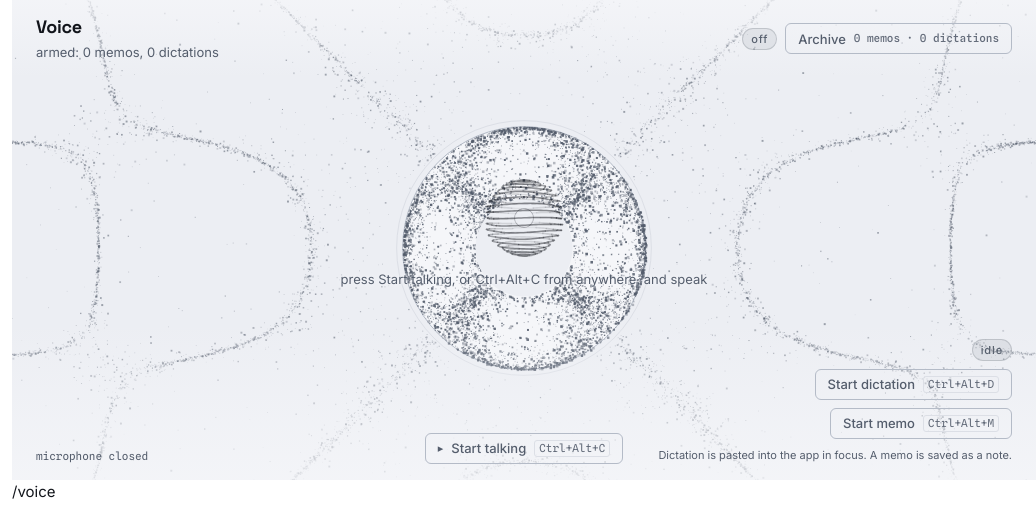
Test: Voice — capture outcomes › names a 204 capture as nothing heard rather than reporting success
What coordinates should you click on to do the following:
click the button "Start dictation Ctrl+Alt+D"
I would click on:
 (913, 384)
Its box is [814,369,1012,400].
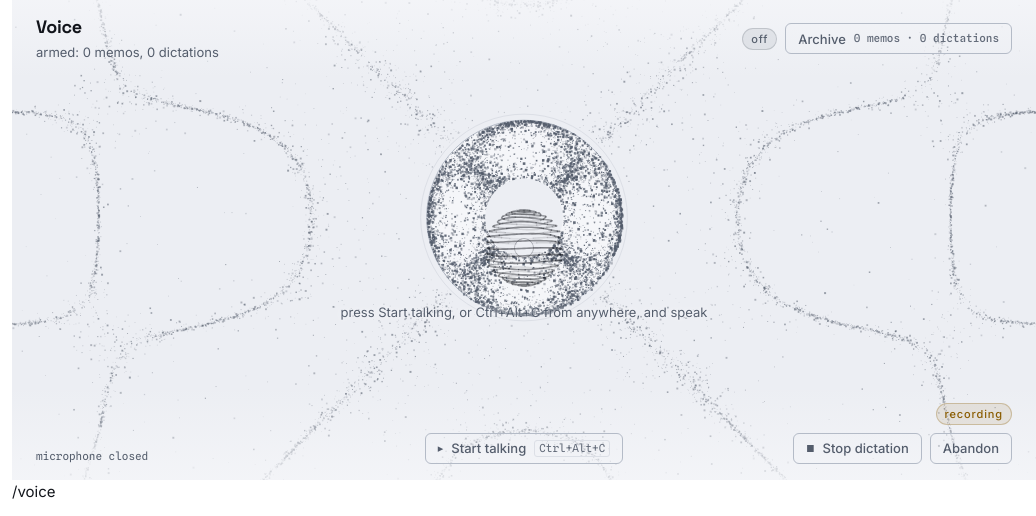
What coordinates should you click on to do the following:
click the button "Stop dictation"
I would click on:
 (858, 448)
Its box is [793,433,922,464].
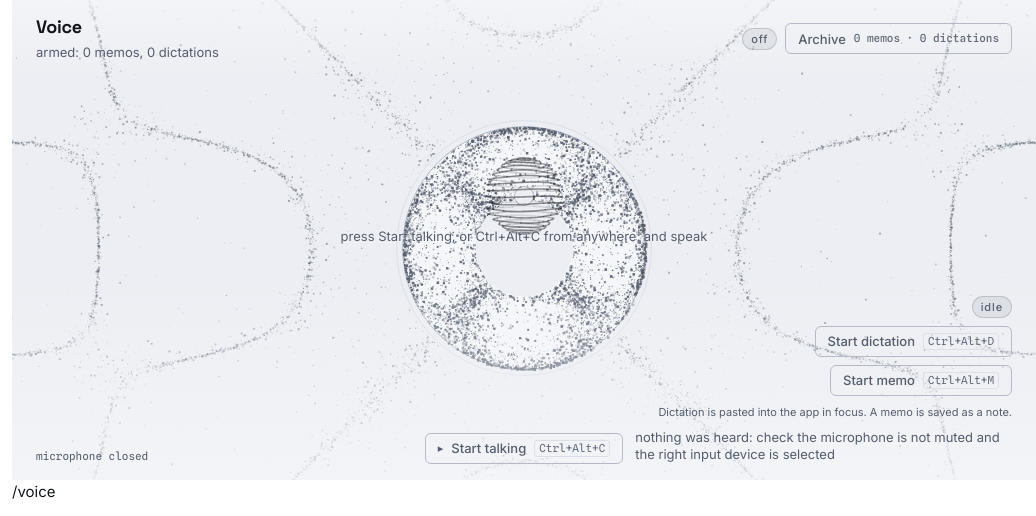
Check: the text "nothing was heard" is shown, box [635,429,1000,462]
